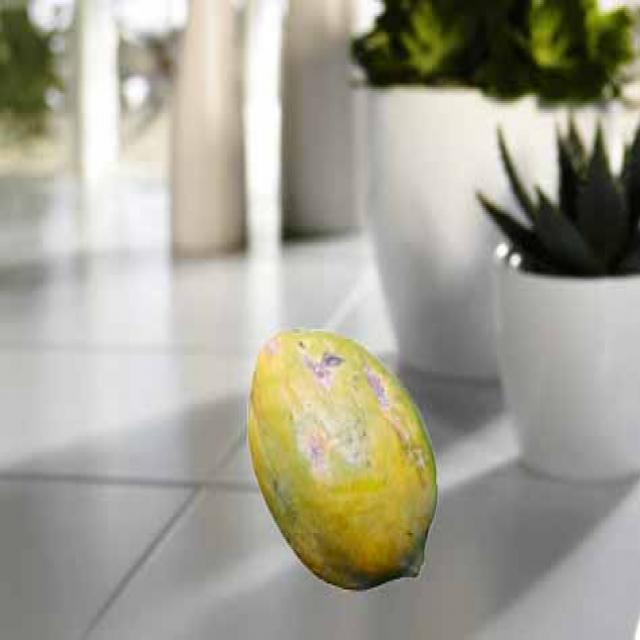Pepaya rippen: (245, 323, 446, 596)
